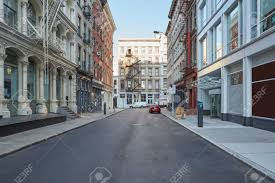car: (146, 103, 160, 116)
strada: (2, 108, 274, 181)
